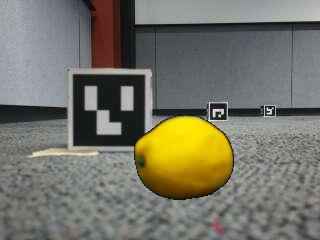lemon: (136, 117, 233, 201)
